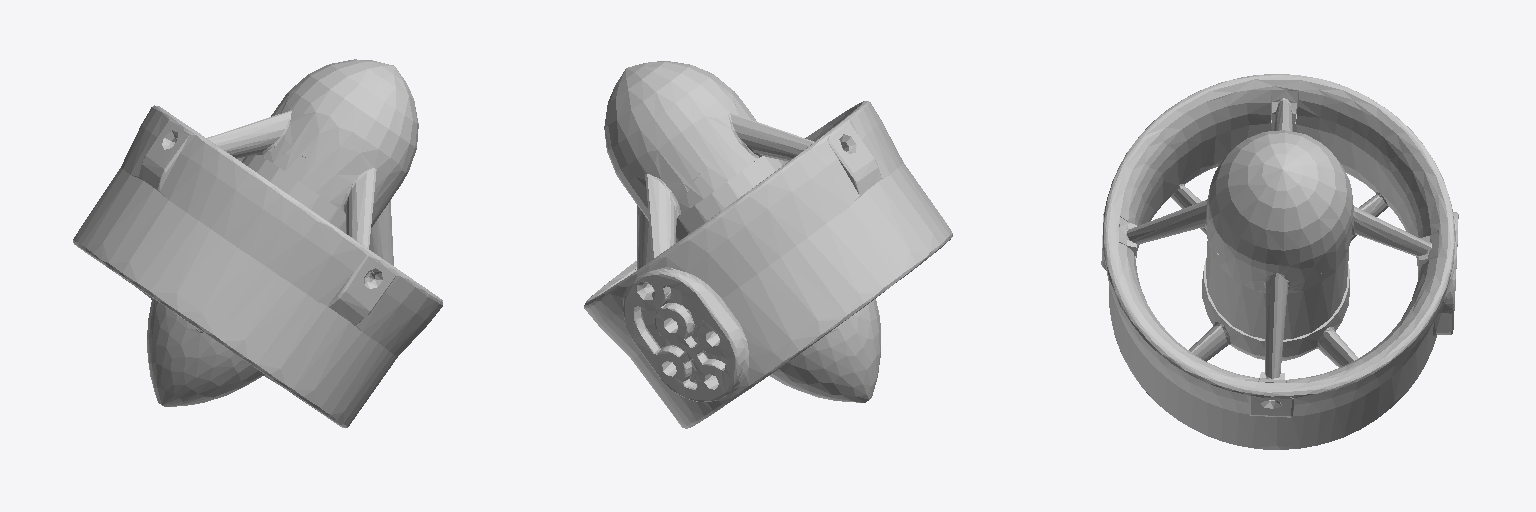
The model's file is duct_bottom_retro_left_vis.obj.
The picture shows the model from 3 angles: view 1: azimuth 30°, elevation 25°; view 2: azimuth 150°, elevation 25°; view 3: azimuth 270°, elevation 25°; orthographic projection.
Visible parts, largest first — view 1: duct_bottom_retro_left_vis; view 2: duct_bottom_retro_left_vis; view 3: duct_bottom_retro_left_vis.
Boxes of the visible parts, x1,y1,x2,y2 form: duct_bottom_retro_left_vis: [73, 59, 442, 427]; duct_bottom_retro_left_vis: [584, 61, 952, 428]; duct_bottom_retro_left_vis: [1101, 74, 1458, 449].
Size of the model in its own units: 0.0974 by 0.0987 by 0.0967.